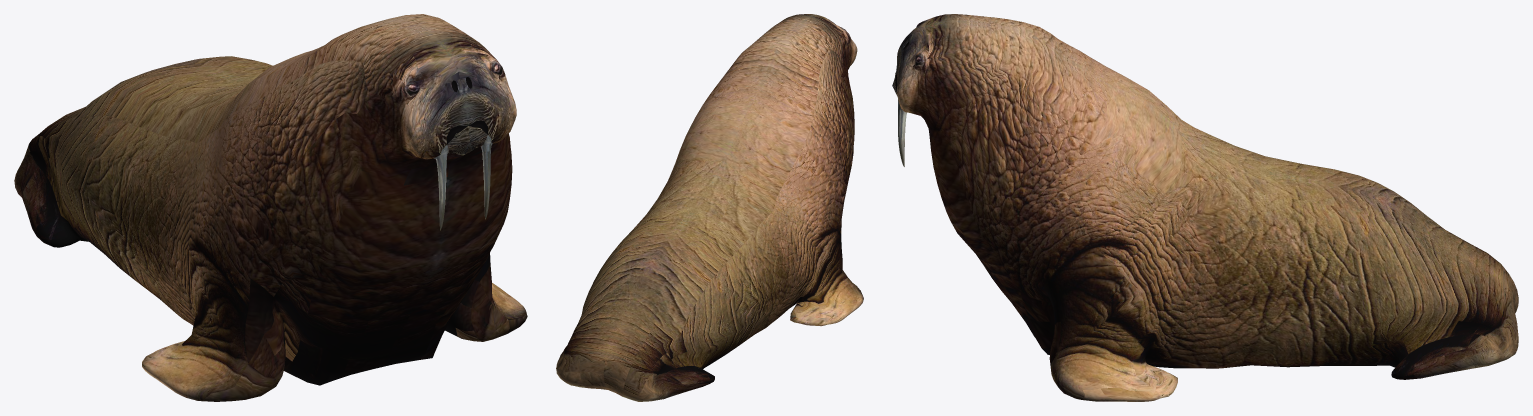
The model's file is WalrusHD.fbx.
3 renders of one model, left to right at view 1: azimuth 30°, elevation 25°; view 2: azimuth 150°, elevation 25°; view 3: azimuth 270°, elevation 25°, orthographic. The views are drawn at different scales.
Visible parts, largest first — view 1: Walrus; view 2: Walrus; view 3: Walrus.
Boxes of the visible parts, left/top/right/bottom form: Walrus: left=14, top=14, right=527, bottom=401; Walrus: left=556, top=14, right=863, bottom=401; Walrus: left=892, top=14, right=1518, bottom=401.
Size of the model in its own units: 184 by 194 by 349.
1 material, 1 textured.
